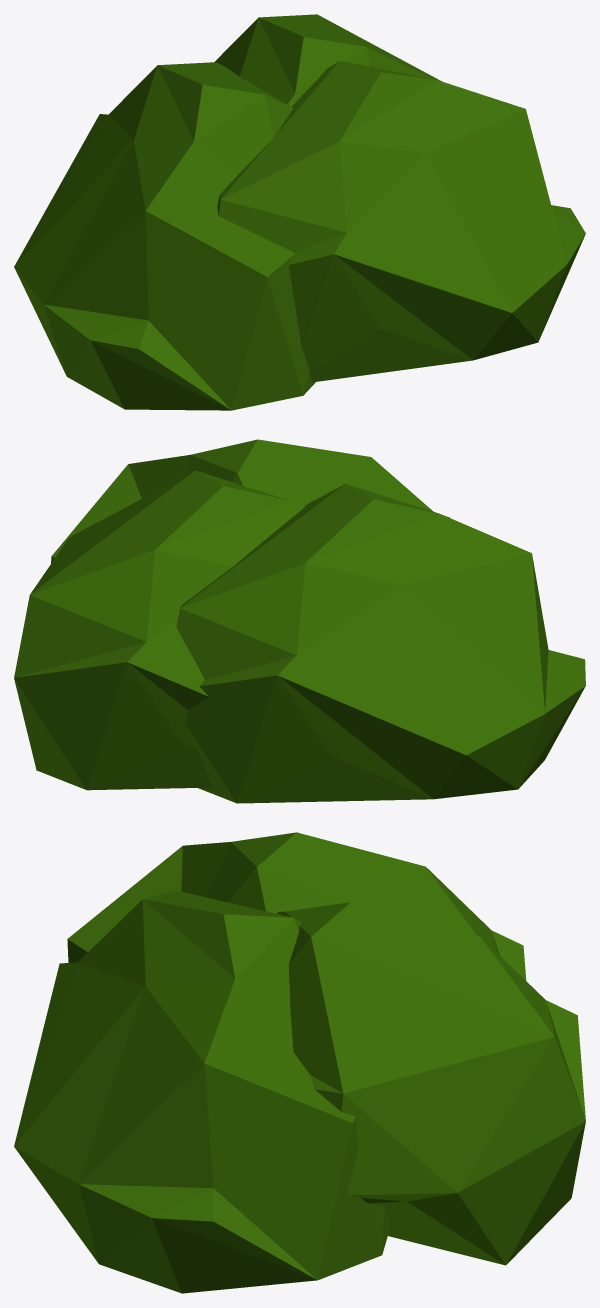
The model's file is bush_5.FBX.
3 renders of one model, top to bottom at view 1: azimuth 30°, elevation 25°; view 2: azimuth 150°, elevation 25°; view 3: azimuth 270°, elevation 25°, orthographic. The views are drawn at different scales.
Parts seen in each view (by area): view 1: bush_5; view 2: bush_5; view 3: bush_5.
Boxes of the visible parts, x1=… form: bush_5: x1=14, y1=14, x2=585, y2=410; bush_5: x1=14, y1=439, x2=585, y2=803; bush_5: x1=14, y1=832, x2=585, y2=1293.
Bounding box in the file's own units: 743 × 385 × 648.
